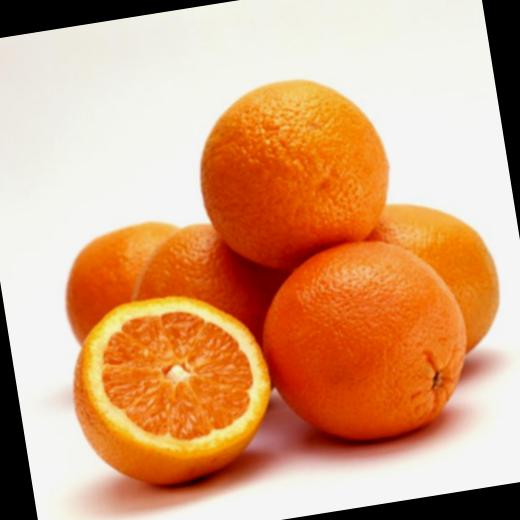Grape: (30, 52, 520, 498)
